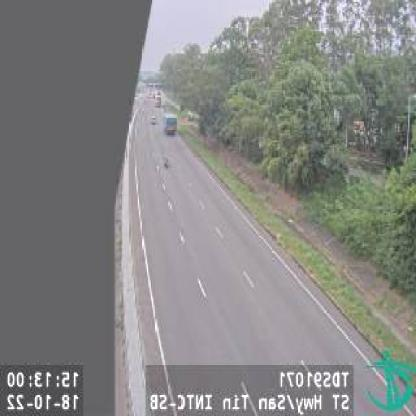Car: (149, 116, 157, 126)
Truck: (162, 113, 176, 136)
